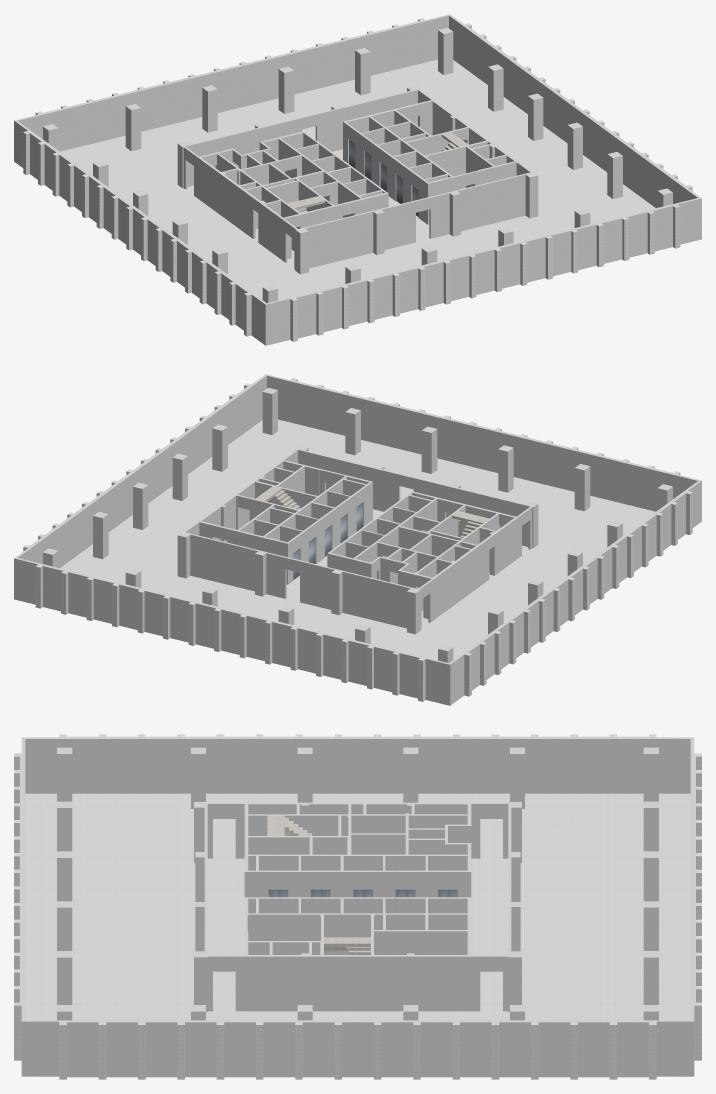
3 renders of one model, top to bottom at view 1: azimuth 30°, elevation 25°; view 2: azimuth 150°, elevation 25°; view 3: azimuth 270°, elevation 25°, orthographic. The views are drawn at different scales.
Parts seen in each view (by area): view 1: DC; view 2: DC; view 3: DC.
Boxes of the visible parts, bbox=[...] form: DC: bbox=[14, 14, 701, 345]; DC: bbox=[14, 374, 701, 705]; DC: bbox=[14, 734, 701, 1079].
Size of the model in its own units: 4944 by 435 by 4944.
5 materials, 5 textured.
